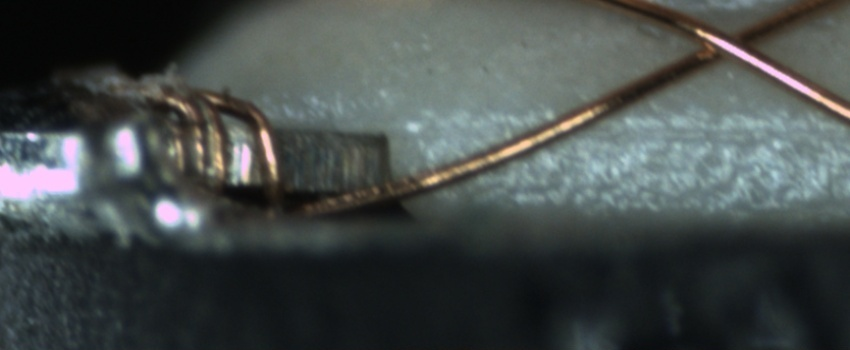CL: (677, 11, 780, 74)
DL: (429, 99, 850, 160)
TE: (109, 75, 304, 219)
